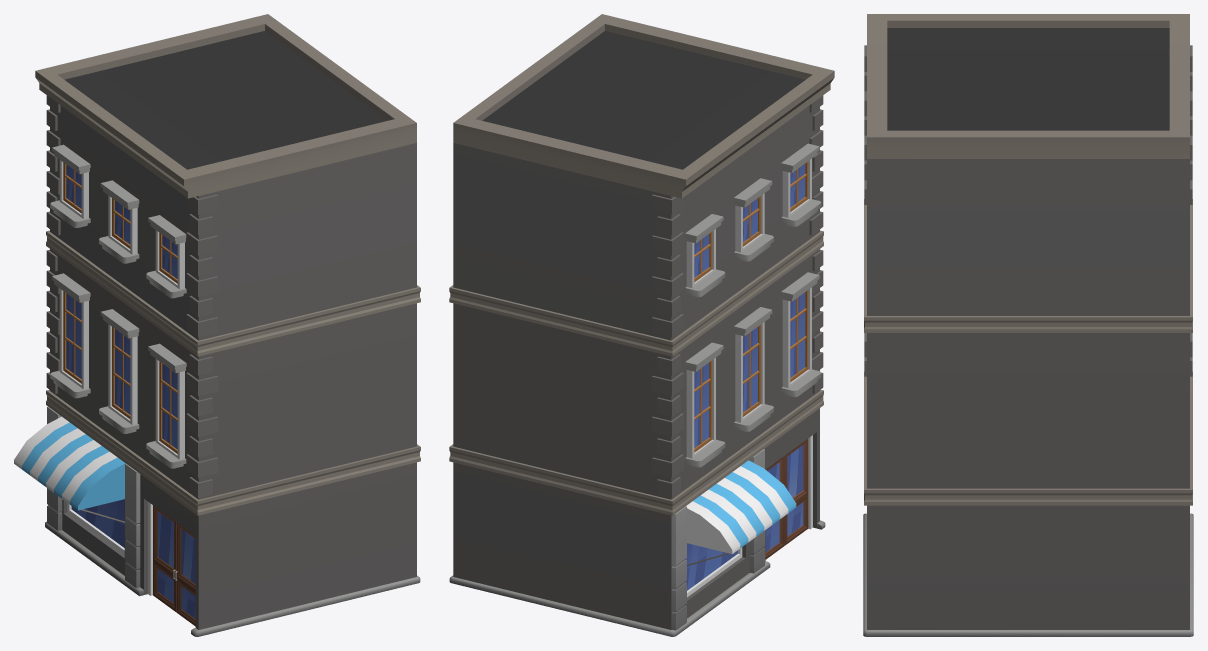
Rendered from Building_8_1_G.fbx.
3 views of the same model, side by side, from view 1: azimuth 30°, elevation 25°; view 2: azimuth 150°, elevation 25°; view 3: azimuth 270°, elevation 25° (orthographic). The views are drawn at different scales.
Parts seen in each view (by area): view 1: Building 8_1_G; view 2: Building 8_1_G; view 3: Building 8_1_G.
Boxes of the visible parts, left/top/right/bottom form: Building 8_1_G: left=14, top=14, right=420, bottom=636; Building 8_1_G: left=449, top=14, right=834, bottom=636; Building 8_1_G: left=863, top=14, right=1193, bottom=636.
Bounding box in the file's own units: 681 × 1108 × 667.
